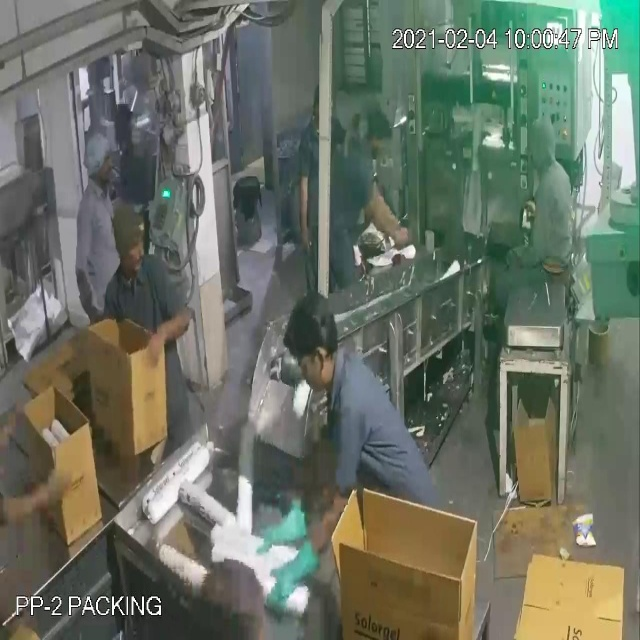Guantes: (267, 538, 328, 616), (252, 484, 308, 551)
Sin_guantes: (0, 453, 79, 527), (129, 308, 200, 383), (366, 180, 415, 254), (299, 162, 316, 267)
